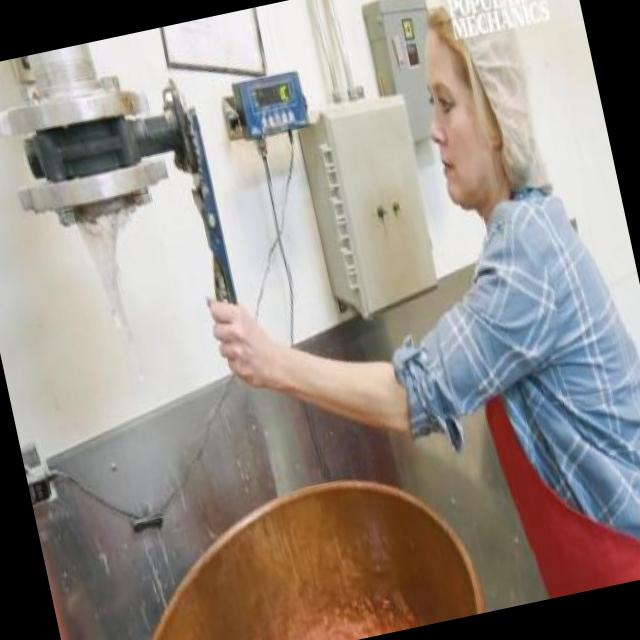hairnet: (412, 0, 535, 135)
